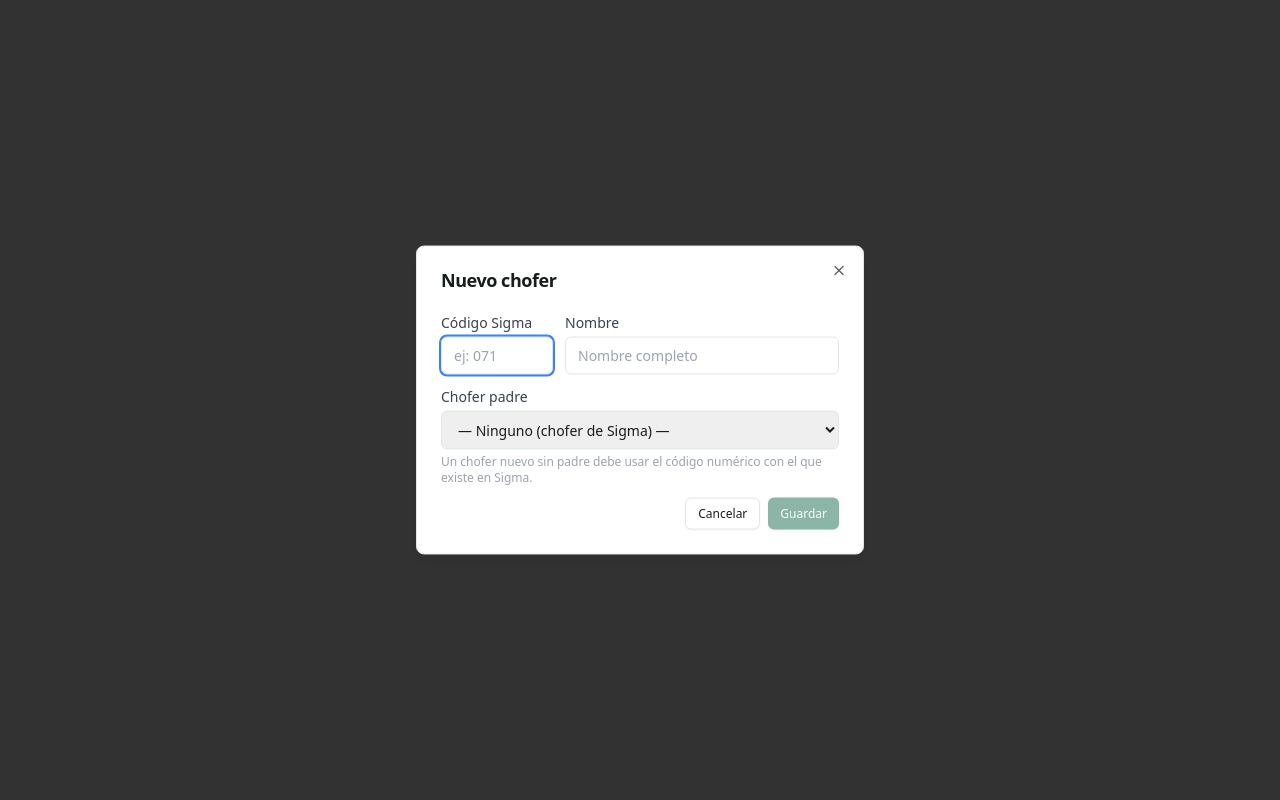
Test: ChoferModal — alta › muestra el error si onGuardar rechaza y no cierra
The image size is (1280, 800).
Step 1. Type "079" into the field with placeholder "ej: 071" → [497, 356], box [441, 336, 553, 374]
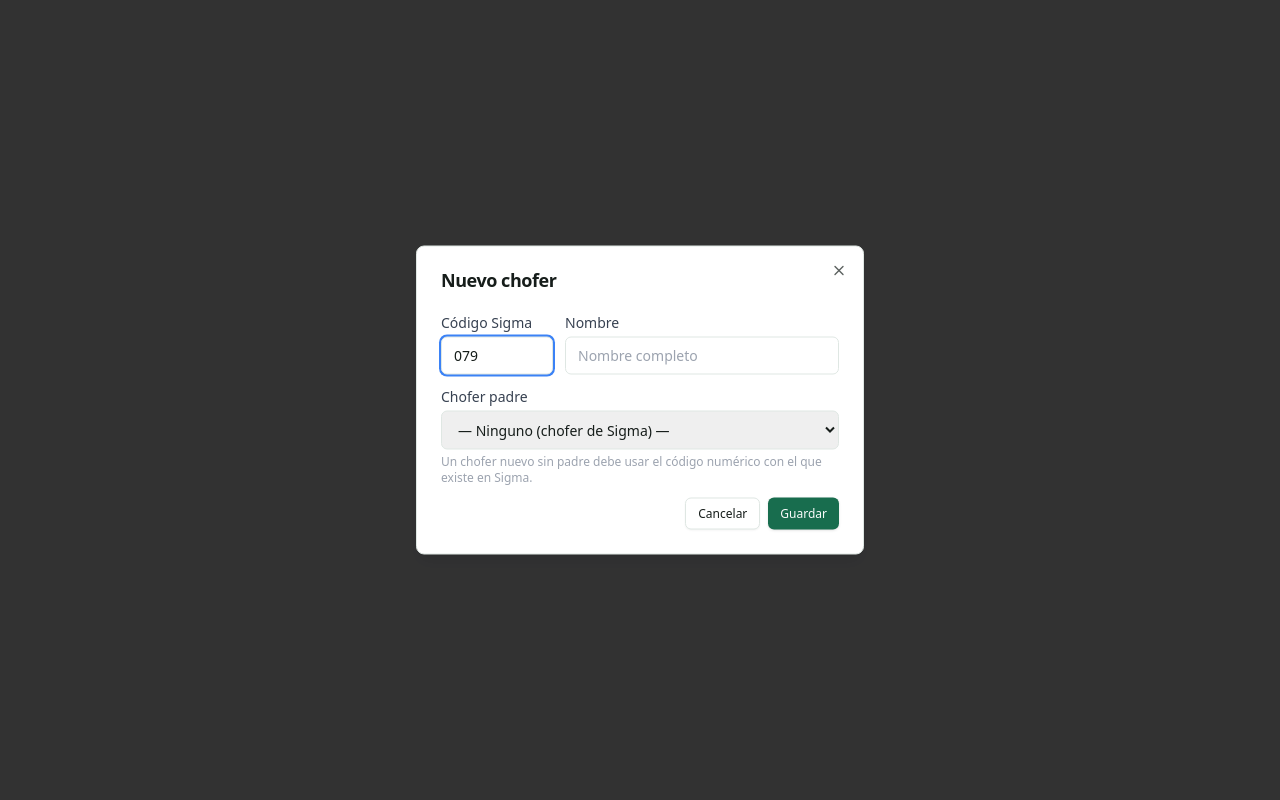
Step 2. Click the button "Guardar" → [804, 514], box [768, 498, 839, 530]
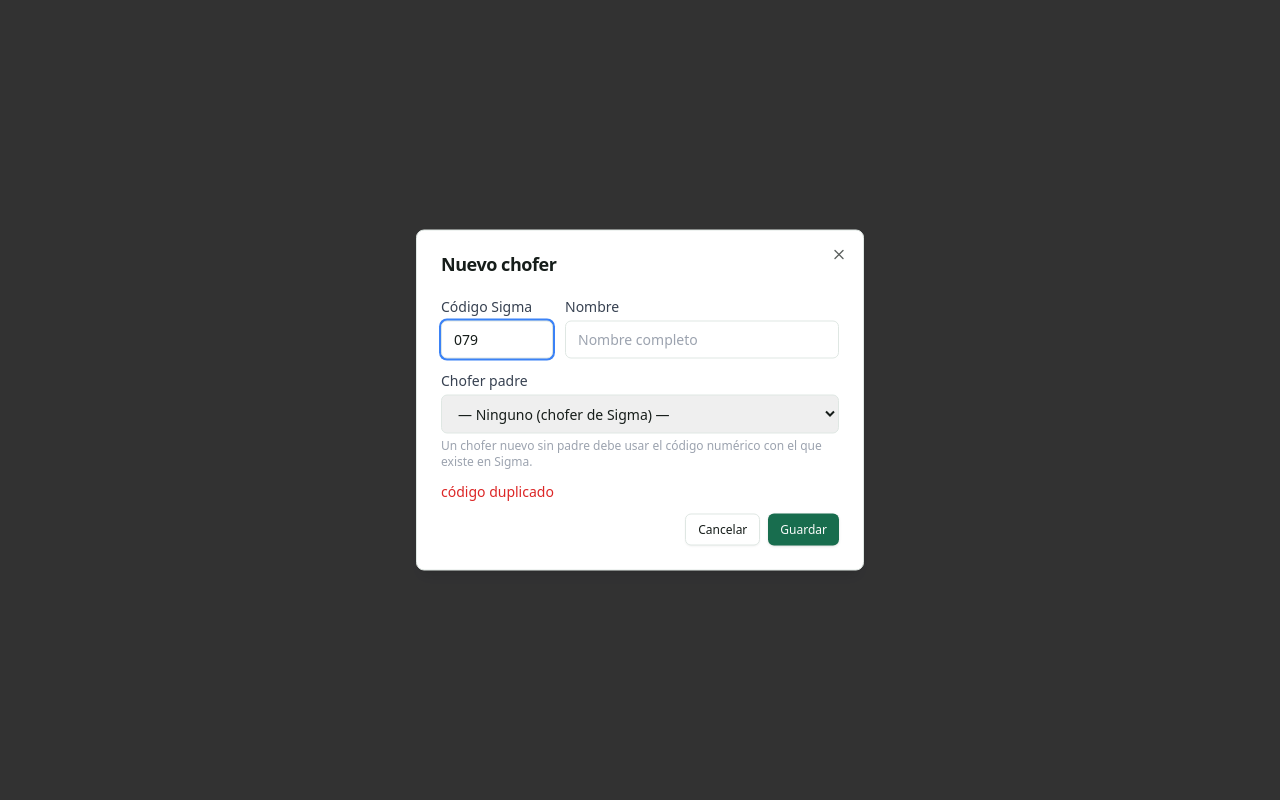
Expected: the text "código duplicado" is shown, [441, 482, 554, 500]
